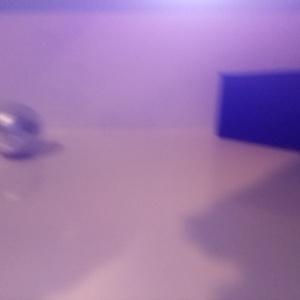alive_ball: (1, 102, 41, 154)
